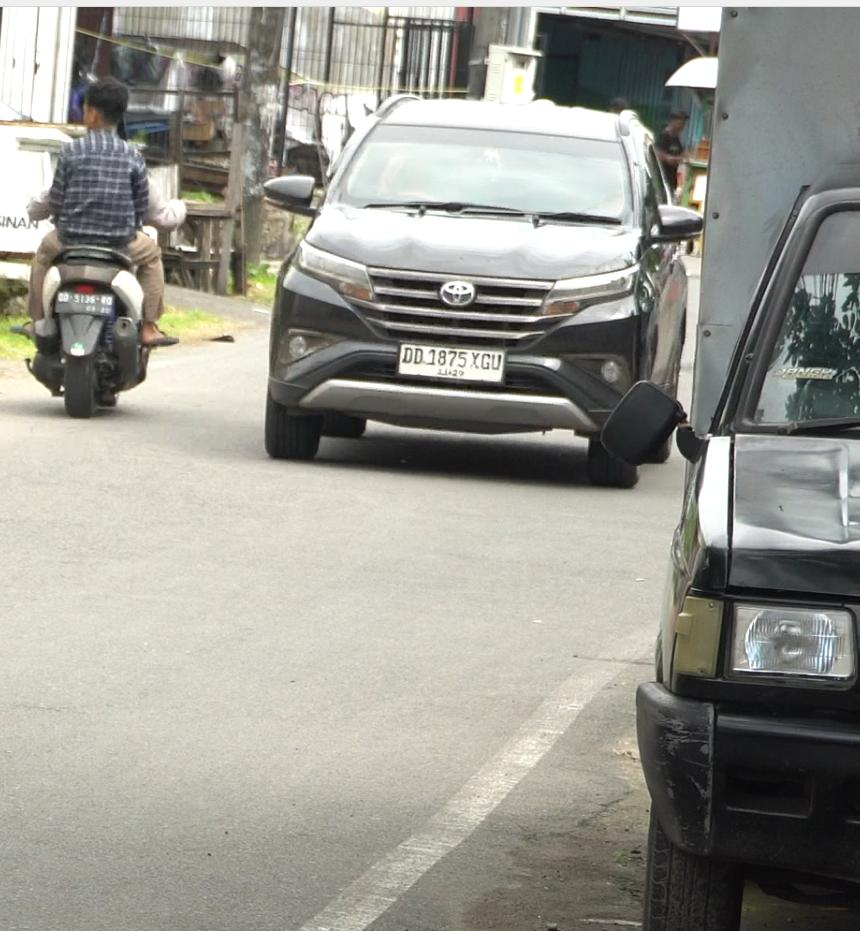number-plate: (393, 340, 515, 392)
